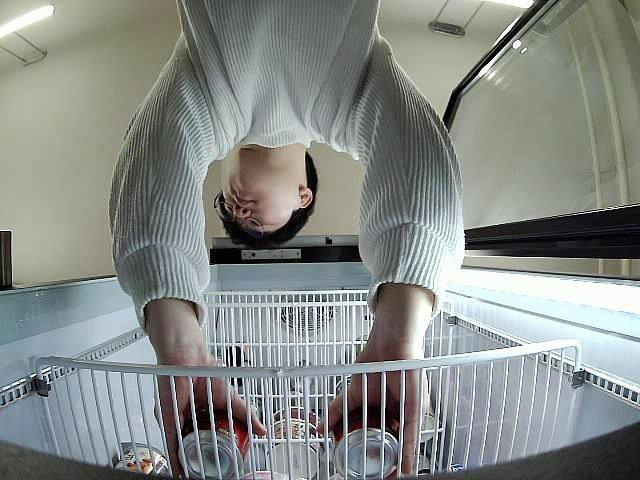11_cocaColaZero: (332, 406, 403, 480), (178, 410, 252, 480)
